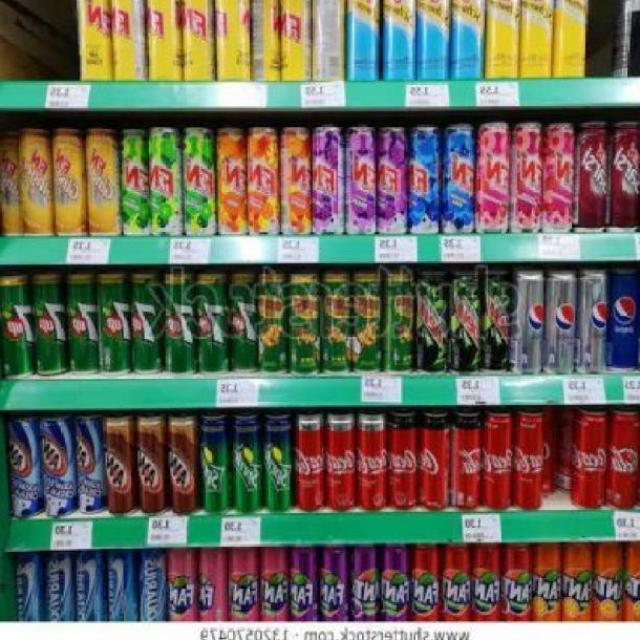Drinks: (570, 407, 609, 514), (31, 270, 67, 376), (510, 268, 546, 374), (418, 406, 452, 514), (163, 269, 197, 375), (607, 407, 640, 514), (65, 271, 98, 377), (130, 269, 163, 375), (577, 270, 610, 373), (97, 271, 129, 377), (545, 268, 577, 374), (0, 273, 31, 382), (451, 406, 482, 514), (387, 407, 418, 514), (514, 409, 545, 514), (199, 411, 230, 515), (262, 409, 293, 513), (325, 411, 356, 515), (197, 271, 228, 374), (610, 266, 640, 371), (231, 409, 261, 514), (483, 408, 513, 513), (294, 410, 324, 514), (357, 410, 387, 514), (228, 271, 257, 374), (409, 543, 440, 623), (471, 543, 502, 623), (500, 543, 531, 623), (562, 543, 593, 623), (593, 542, 623, 623), (441, 543, 471, 623), (531, 543, 561, 623), (286, 545, 317, 621), (348, 545, 379, 621), (317, 546, 347, 622), (378, 545, 408, 621), (168, 548, 198, 622), (199, 547, 228, 623), (228, 548, 257, 622), (259, 548, 287, 622), (624, 542, 640, 623)
